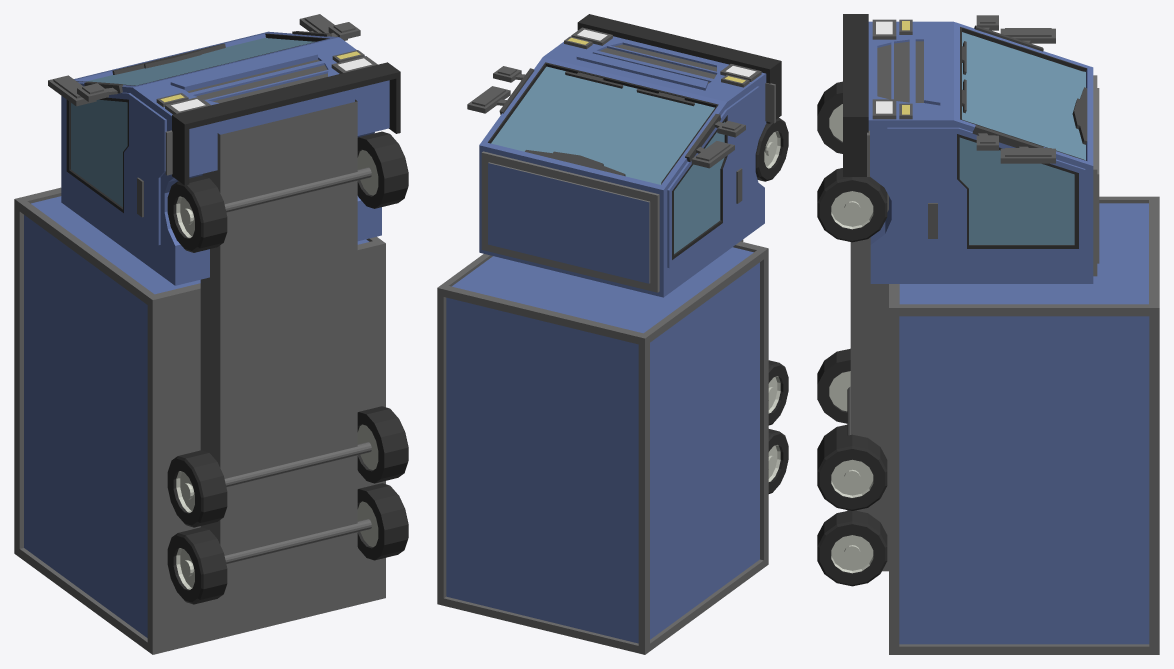
Rendered from blue_lorry.fbx.
3 views of the same model, side by side, from view 1: azimuth 30°, elevation 25°; view 2: azimuth 150°, elevation 25°; view 3: azimuth 270°, elevation 25° (orthographic). The views are drawn at different scales.
Parts seen in each view (by area): view 1: Little Lorry Blue; view 2: Little Lorry Blue; view 3: Little Lorry Blue.
Boxes of the visible parts, box(x1,y1,x2,y2) form: Little Lorry Blue: box(14, 14, 408, 654); Little Lorry Blue: box(437, 14, 788, 654); Little Lorry Blue: box(817, 14, 1159, 654).
Bounding box in the file's own units: 150 × 288 × 167.
